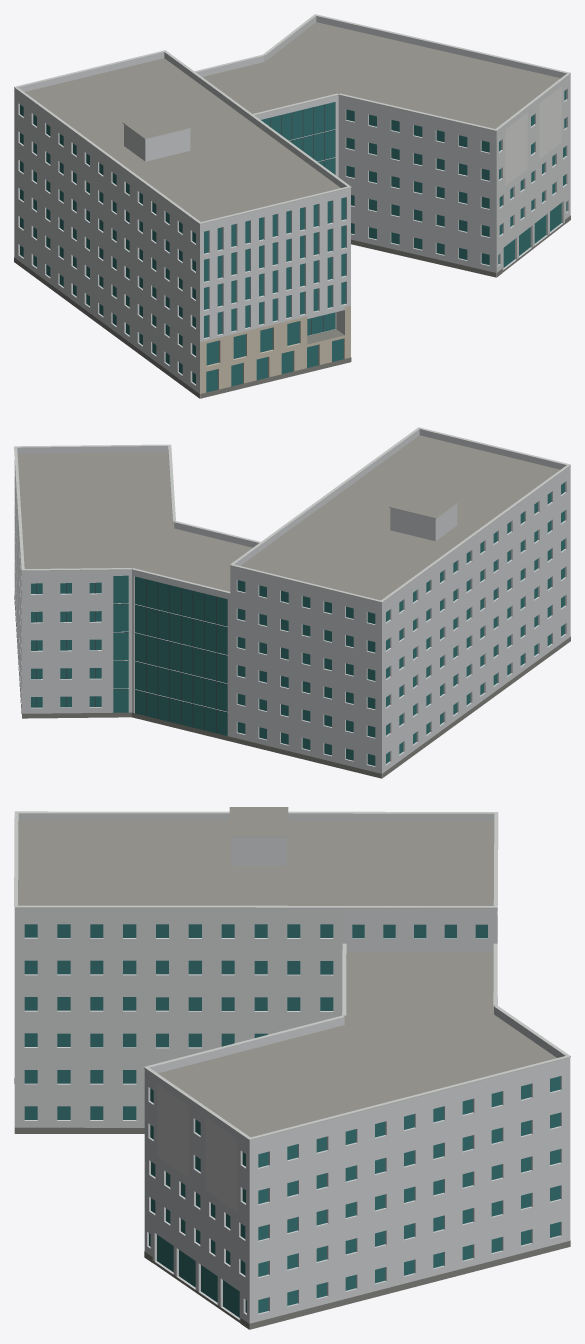
The picture shows the model from 3 angles, top to bottom: view 1: azimuth 30°, elevation 25°; view 2: azimuth 150°, elevation 25°; view 3: azimuth 270°, elevation 25°; orthographic projection. The views are drawn at different scales.
Visible parts, largest first — view 1: international__wall, international__roof, international__glass, international__parapet, international__stoneBase, international__trim, international__base, international__screen; view 2: international__wall, international__roof, international__glass, international__parapet, international__trim, international__base, international__frame; view 3: international__wall, international__roof, international__glass, international__parapet, international__trim, international__screen, international__base.
Boxes of the visible parts, box(x1,y1,x2,y2) form: international__wall: box(14, 79, 570, 398); international__roof: box(24, 22, 563, 272); international__glass: box(20, 90, 567, 392); international__parapet: box(14, 16, 570, 229); international__stoneBase: box(200, 306, 350, 398); international__trim: box(14, 14, 570, 224); international__base: box(14, 215, 570, 398); international__screen: box(505, 86, 561, 185); international__wall: box(14, 461, 570, 778); international__roof: box(17, 435, 559, 718); international__glass: box(31, 482, 564, 765); international__parapet: box(17, 429, 570, 608); international__trim: box(14, 427, 570, 602); international__base: box(14, 595, 570, 778); international__frame: box(36, 579, 227, 733); international__wall: box(14, 837, 570, 1329); international__roof: box(18, 807, 556, 1322); international__glass: box(24, 924, 560, 1317); international__parapet: box(14, 813, 570, 1147); international__trim: box(14, 811, 570, 1140); international__screen: box(157, 1084, 236, 1211); international__base: box(14, 1078, 570, 1329).
Bounding box in the file's own units: 61.83 × 24.62 × 49.89.
